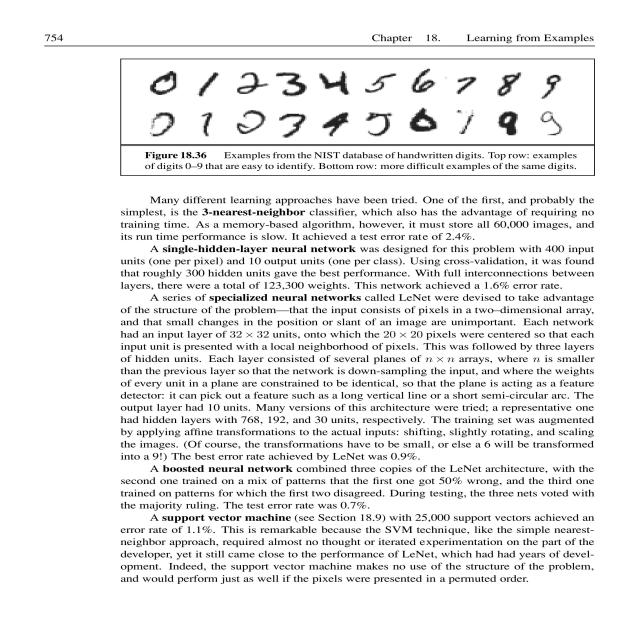diagram: (103, 52, 619, 181)
